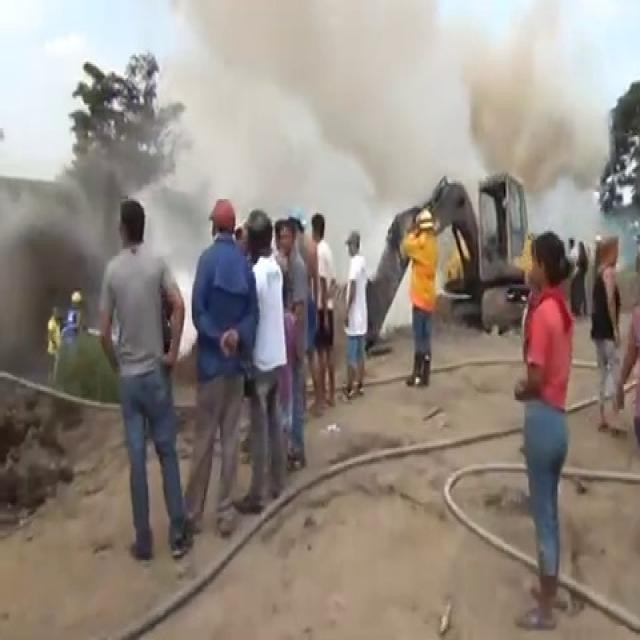Smoke: (117, 0, 611, 238)
